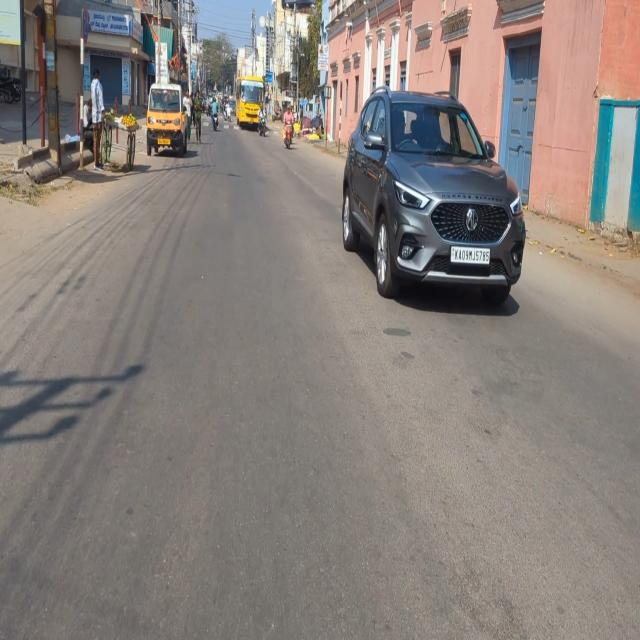bien_cam: (80, 5, 92, 45)
